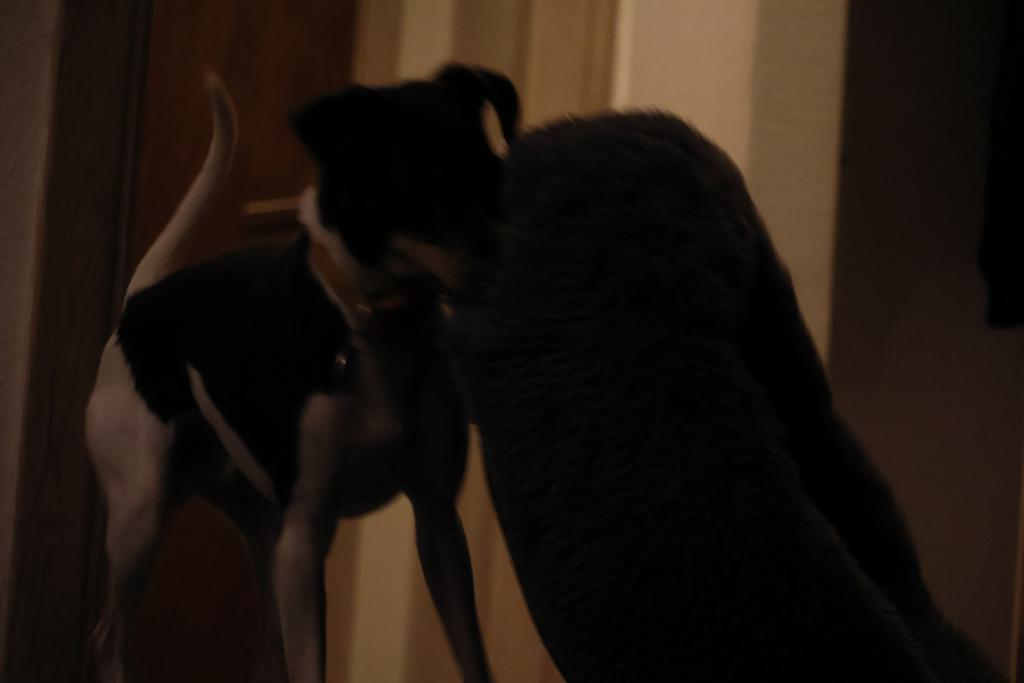Dog: (71, 50, 535, 683)
